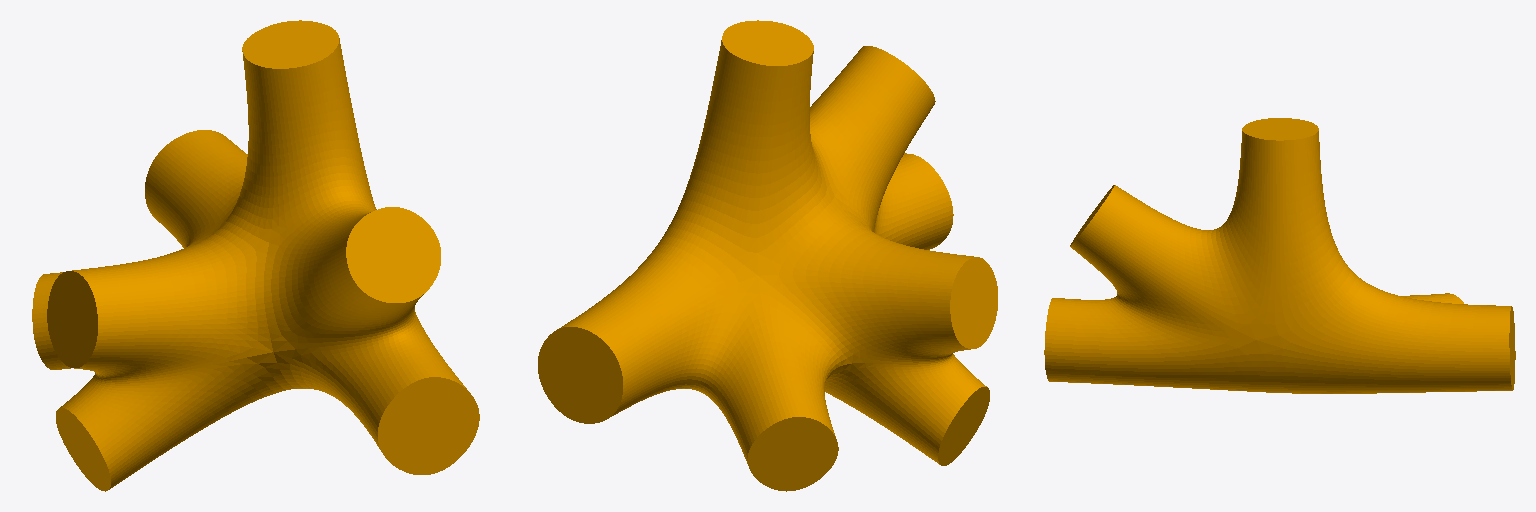
The robot description file, URDF, robot "object":
<robot name="object">
  <link name="object">
    <visual>
      <origin xyz="0 0 0"/>
      <geometry>
        <mesh filename="visual.obj" scale="1 1 1"/>
      </geometry>
    </visual>
    <collision>
      <origin xyz="0 0 0"/>
      <geometry>
        <mesh filename="visual.obj" scale="1 1 1"/>
      </geometry>
    </collision>
    <inertial>
      <mass value="0.05"/>
      <inertia ixx="0.0001006610684211805" iyy="5.9870617478131676e-05" izz="0.00010187433905960054" ixy="1.0180104080220532e-07" ixz="-9.197797102723936e-06" iyz="1.0123973324539064e-05"/>
    </inertial>
  </link>
</robot>

--- Render facts (derived) ---
Views: 3 orthographic renders of the robot side by side, from view 1: azimuth 30°, elevation 25°; view 2: azimuth 150°, elevation 25°; view 3: azimuth 270°, elevation 25°.
Robot: object — 1 links, 0 joints (none); root link object; default pose: all joints at 0.
Links seen in each view (by area): view 1: object; view 2: object; view 3: object.
Link boxes in pixels (x1,y1,x2,y2): object: (32,20,479,491); object: (538,20,997,491); object: (1044,118,1515,393).
Size in the robot's own frame: 0.1148 by 0.1855 by 0.137 metres.
Meshes: 1 distinct files referenced, 1 mesh visuals loaded (1 OBJ).
